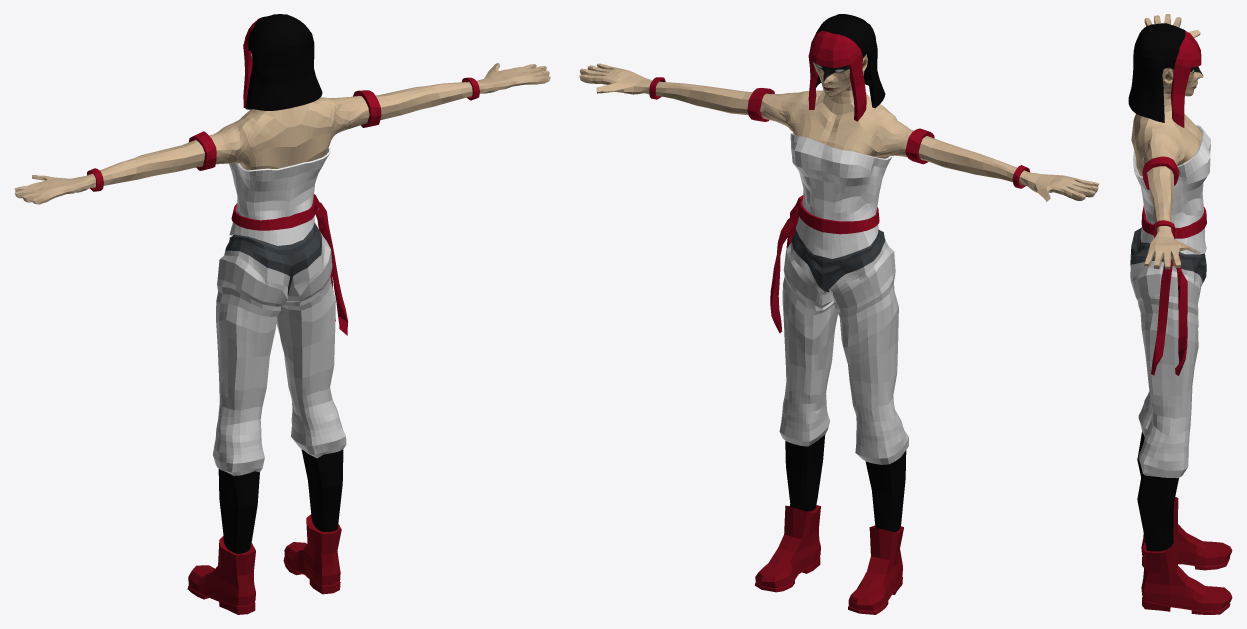
File: Main character T-pose.fbx
The picture shows the model from 3 angles, left to right: view 1: azimuth 30°, elevation 25°; view 2: azimuth 150°, elevation 25°; view 3: azimuth 270°, elevation 25°; orthographic projection. The views are drawn at different scales.
Parts seen in each view (by area): view 1: Body.002, Sphere.001, Cube.001, Body.003, Body.005, Plane, Cylinder.001; view 2: Body.002, Body.003, Cube.001, Sphere.001, Plane, Cylinder.001, Body.005; view 3: Body.002, Cube.001, Sphere.001, Body.003, Plane, Cylinder.001, Body.005, Body.006.
Part boxes in pixels (box(x1,y1,x2,y2)): Body.002: box(14, 53, 550, 553); Sphere.001: box(243, 14, 322, 110); Cube.001: box(187, 514, 341, 614); Body.003: box(229, 147, 330, 245); Body.005: box(188, 90, 381, 170); Plane: box(313, 194, 348, 335); Cylinder.001: box(231, 198, 315, 230); Body.002: box(579, 54, 1099, 532); Body.003: box(790, 133, 892, 258); Cube.001: box(754, 505, 903, 614); Sphere.001: box(808, 14, 885, 121); Plane: box(770, 195, 803, 333); Cylinder.001: box(797, 199, 879, 234); Body.005: box(747, 88, 934, 164); Body.002: box(1130, 14, 1206, 551); Cube.001: box(1141, 497, 1232, 614); Sphere.001: box(1128, 23, 1201, 127); Body.003: box(1133, 125, 1210, 254); Plane: box(1151, 227, 1187, 375); Cylinder.001: box(1141, 205, 1206, 238); Body.005: box(1142, 156, 1179, 190); Body.006: box(1152, 220, 1175, 237).
Size of the model in its own units: 169 by 177 by 29.77.
